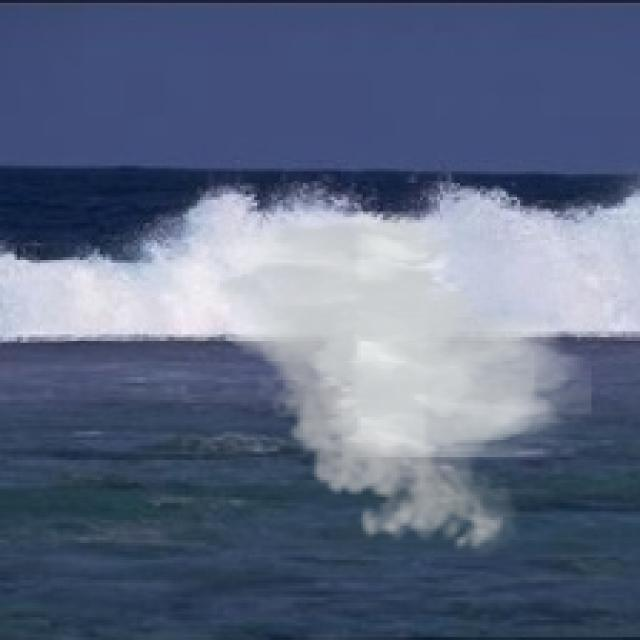smoke: (192, 211, 592, 560)
